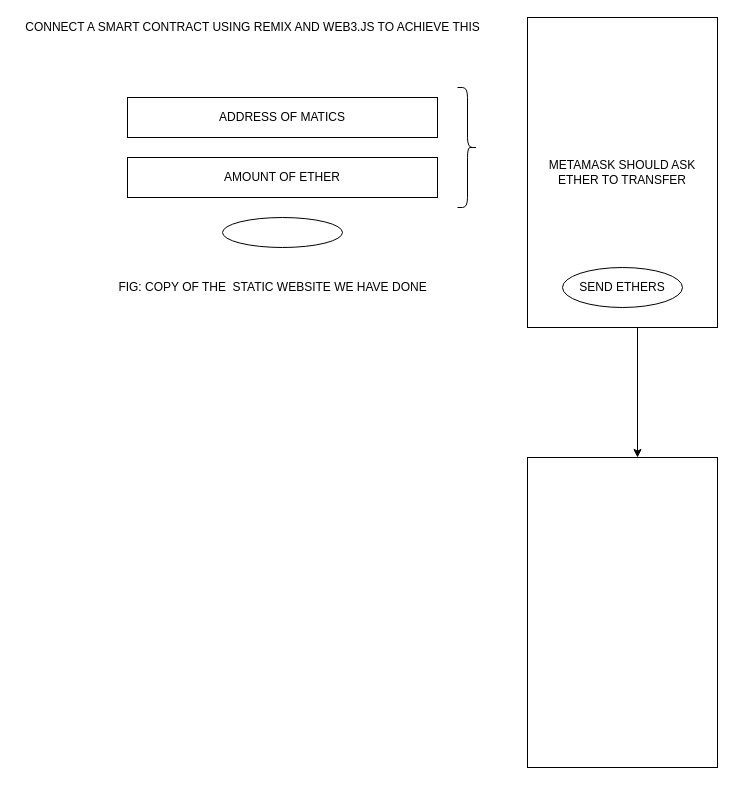
The diagram is 735 pixels wide and 785 high, and some of its shapes have lost their labels. The shapes that lost their labels are listed below. From the top down, each one's centre as x and y in pixels, then its label:
At pixel 282 232: "SEND".
At pixel 622 612: "A CREATED MATIC SHOULD RECIEVE THE ETHERS TO MATIC NETWORK".
